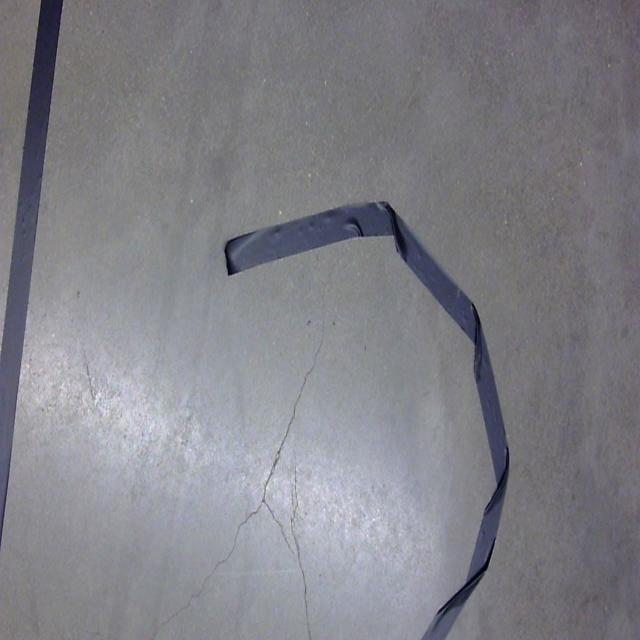tape: (210, 182, 524, 640)
